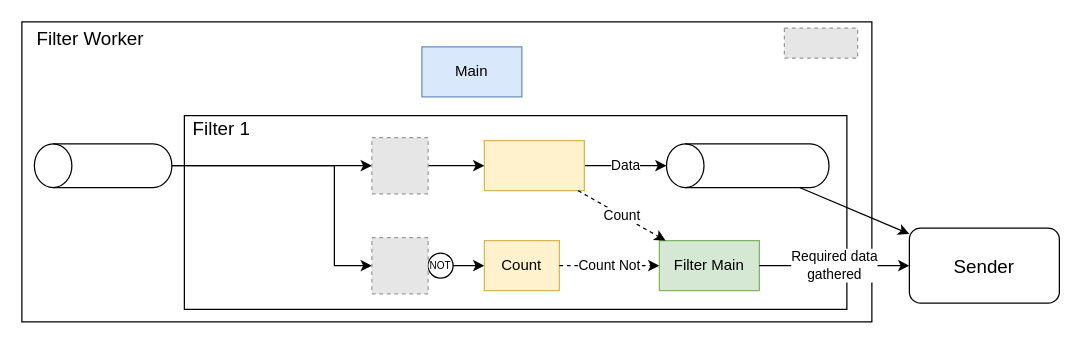
This 1081x344 diagram has some shape labels left out. Grey dashed boxes stand in for pictures. Each missing label, with the box of its shape:
All Data: (33, 142, 172, 188)
Count + Send: (483, 139, 584, 191)
Required Data 1: (665, 142, 829, 188)
